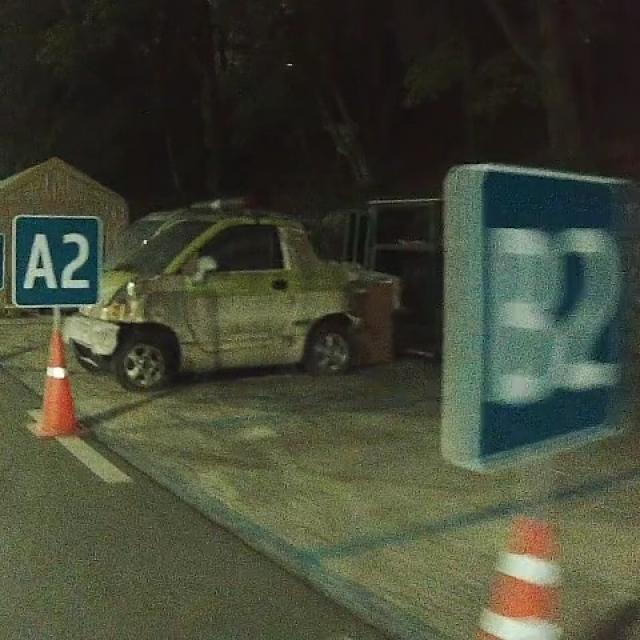a2: (6, 210, 106, 311)
b2: (442, 157, 631, 472)
